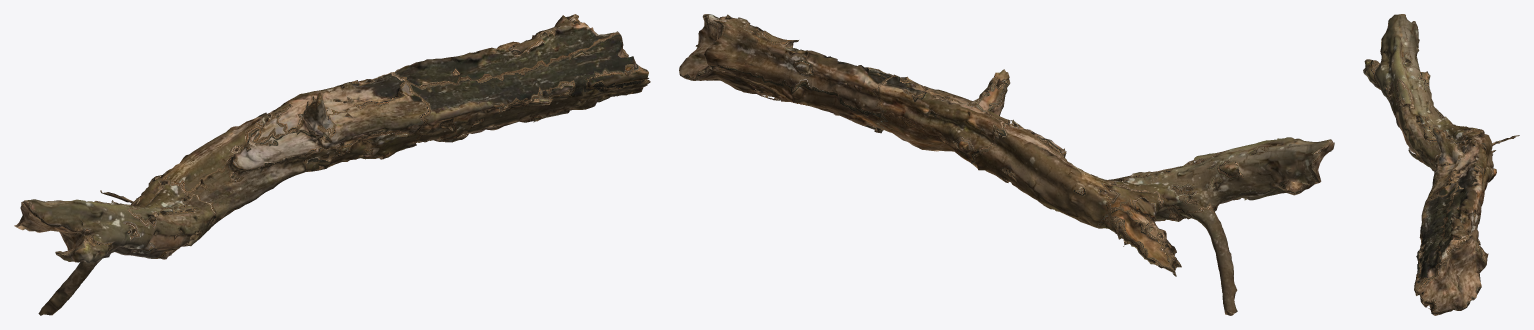
Rendered from dead_tree_trunk_02.glb.
3 views of the same model, side by side, from view 1: azimuth 30°, elevation 25°; view 2: azimuth 150°, elevation 25°; view 3: azimuth 270°, elevation 25° (orthographic). The views are drawn at different scales.
Parts seen in each view (by area): view 1: dead_tree_trunk_02; view 2: dead_tree_trunk_02; view 3: dead_tree_trunk_02.
Part boxes in pixels (<box>): dead_tree_trunk_02: <box>14,14,650,315</box>; dead_tree_trunk_02: <box>679,14,1334,315</box>; dead_tree_trunk_02: <box>1363,14,1519,315</box>.
Size of the model in its own units: 4.04 by 1.05 by 1.05.
1 material, 1 textured.
